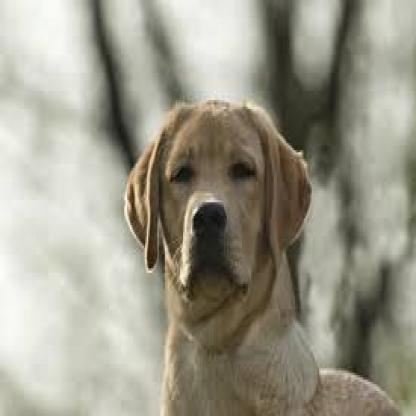dog: (124, 95, 402, 416)
